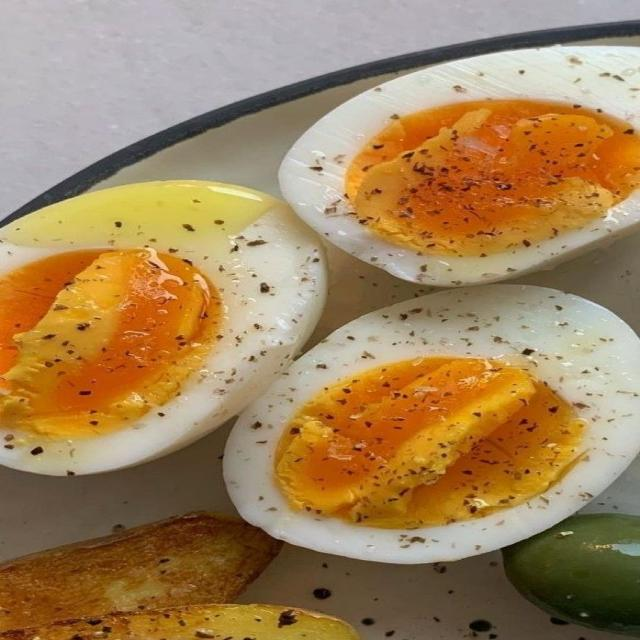eggs: (35, 57, 640, 591)
